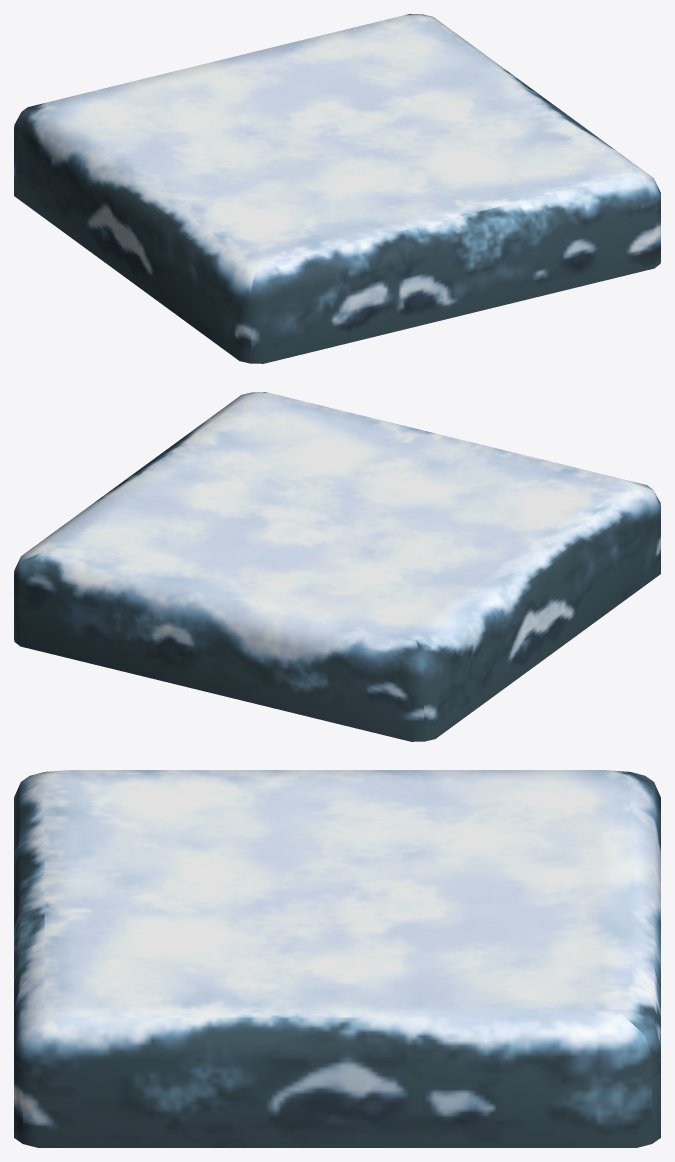
File: Block_Cap_Snow.fbx
3 views of the same model, one above another, from view 1: azimuth 30°, elevation 25°; view 2: azimuth 150°, elevation 25°; view 3: azimuth 270°, elevation 25° (orthographic). The views are drawn at different scales.
Parts seen in each view (by area): view 1: Block_Cap_Snow; view 2: Block_Cap_Snow; view 3: Block_Cap_Snow.
Boxes of the visible parts, x1,y1,x2,y2 form: Block_Cap_Snow: (14,14,660,363); Block_Cap_Snow: (14,392,660,741); Block_Cap_Snow: (14,770,660,1147).
Bounding box in the file's own units: 100 × 20 × 100.
